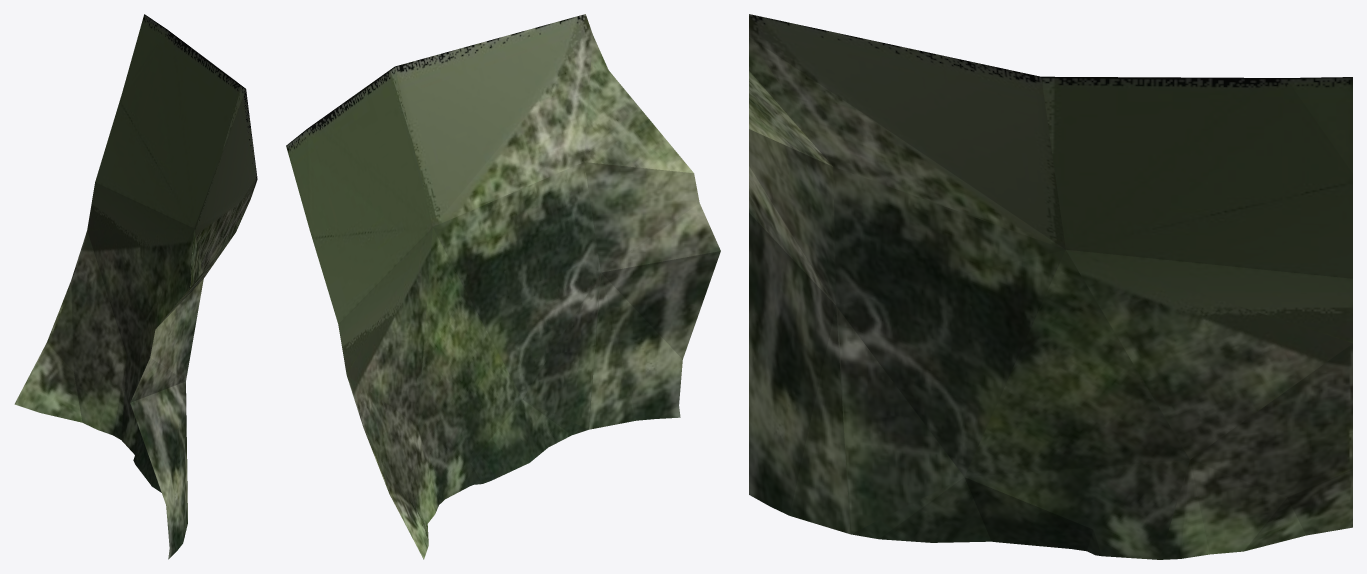
The picture shows the model from 3 angles, left to right: view 1: azimuth 30°, elevation 25°; view 2: azimuth 150°, elevation 25°; view 3: azimuth 270°, elevation 25°; orthographic projection. The views are drawn at different scales.
Bounding box in the file's own units: 3.67 × 5.9 × 5.9.
Materials: 3 (3 with a texture image).
